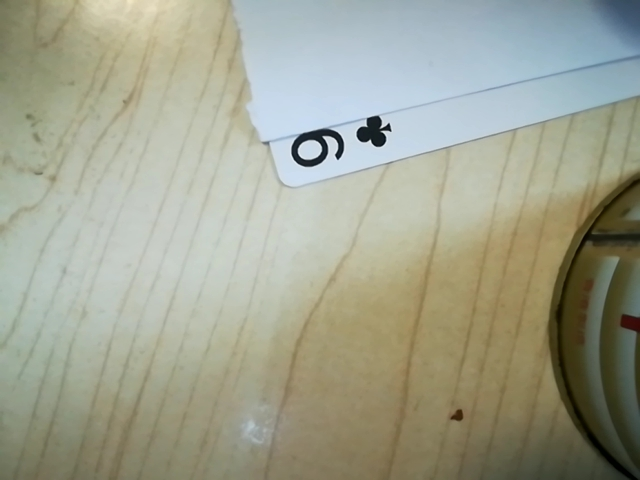mh 9: (278, 110, 400, 179)
